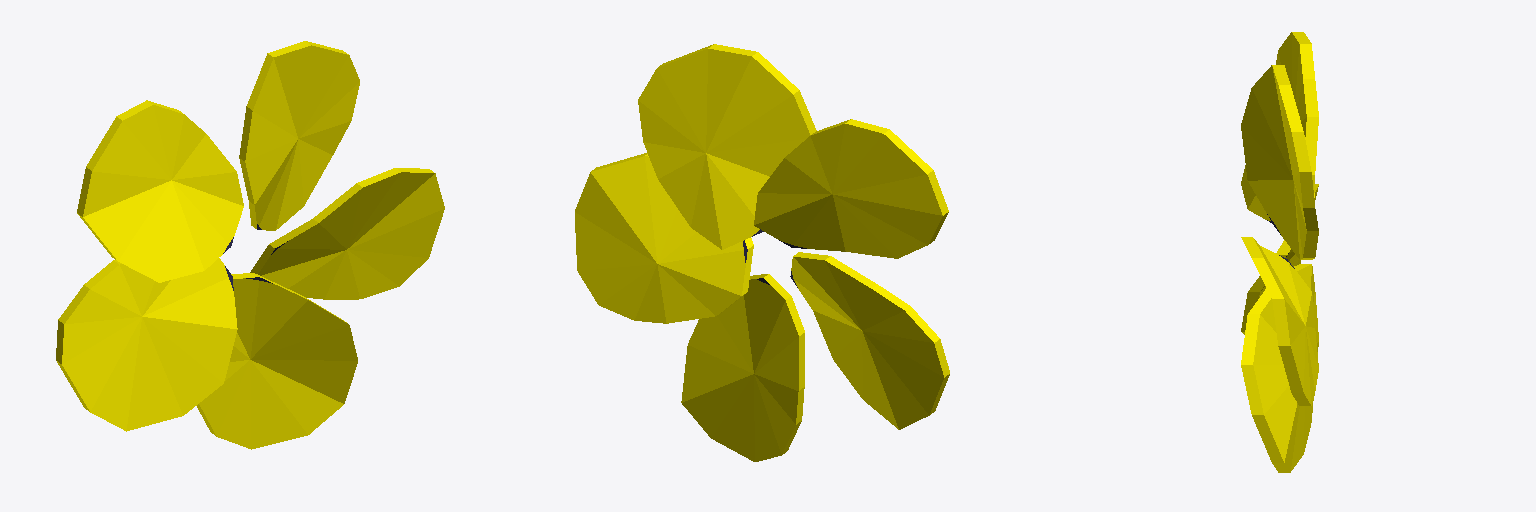
3 views of the same model, side by side, from view 1: azimuth 30°, elevation 25°; view 2: azimuth 150°, elevation 25°; view 3: azimuth 270°, elevation 25° (orthographic).
Bounding box in the file's own units: 509 × 512 × 91.67.
1 materials, 1 textured.